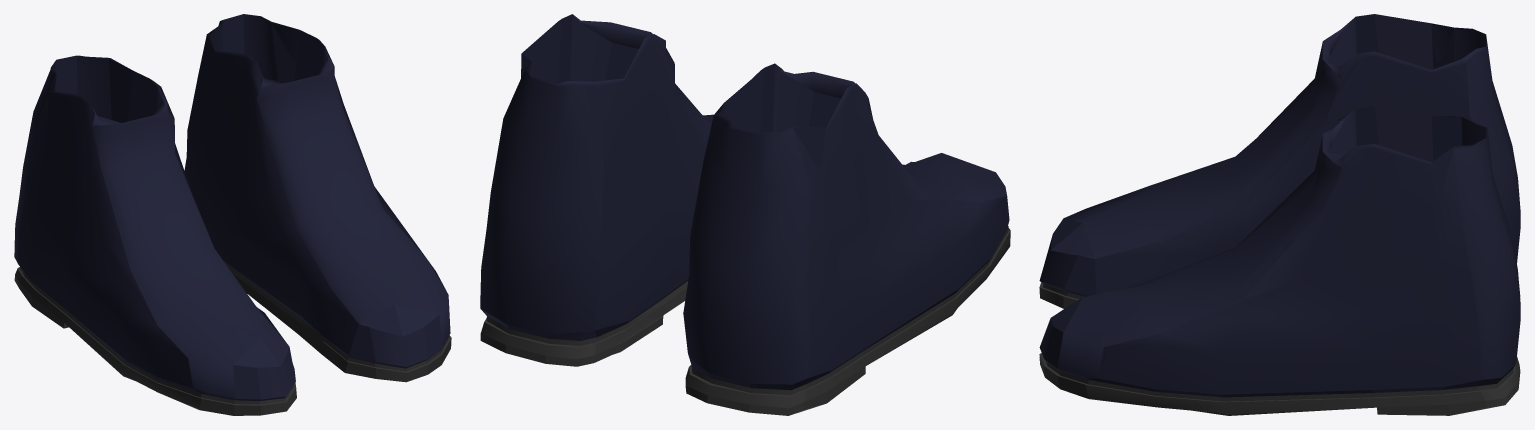
File: shoes.fbx
The picture shows the model from 3 angles, left to right: view 1: azimuth 30°, elevation 25°; view 2: azimuth 150°, elevation 25°; view 3: azimuth 270°, elevation 25°; orthographic projection. The views are drawn at different scales.
Parts seen in each view (by area): view 1: leftShoe1, leftShoe; view 2: leftShoe1, leftShoe; view 3: leftShoe, leftShoe1.
Boxes of the visible parts, <box> form: leftShoe1: <box>14,55,296,415</box>; leftShoe: <box>184,14,451,382</box>; leftShoe1: <box>683,63,1010,415</box>; leftShoe: <box>480,14,713,366</box>; leftShoe: <box>1039,106,1520,415</box>; leftShoe1: <box>1039,14,1520,308</box>.
Size of the model in its own units: 3.18 by 2.42 by 4.02.
